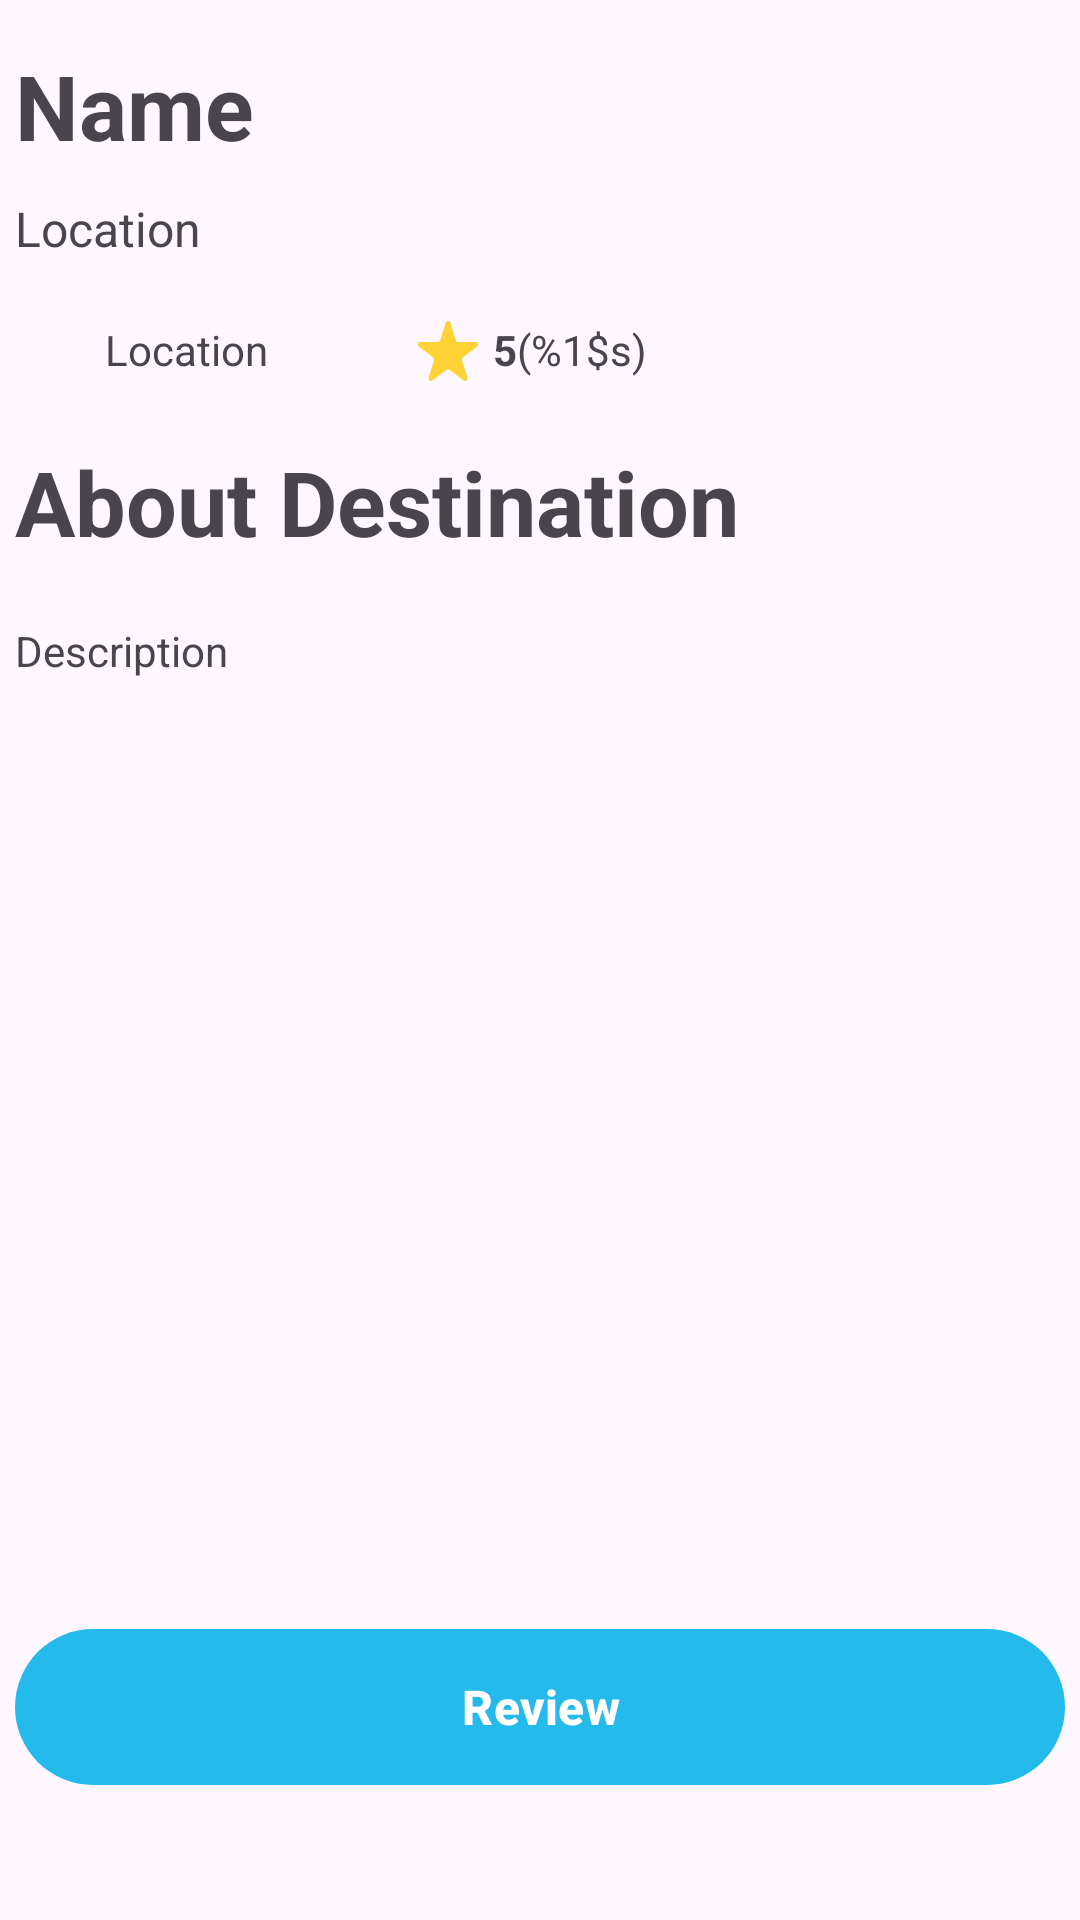

Named icons in this screenshot (1080w x 1920h) and their bounding boxes, (x1, y1, x2, y2):
star: (418, 321, 478, 381)
